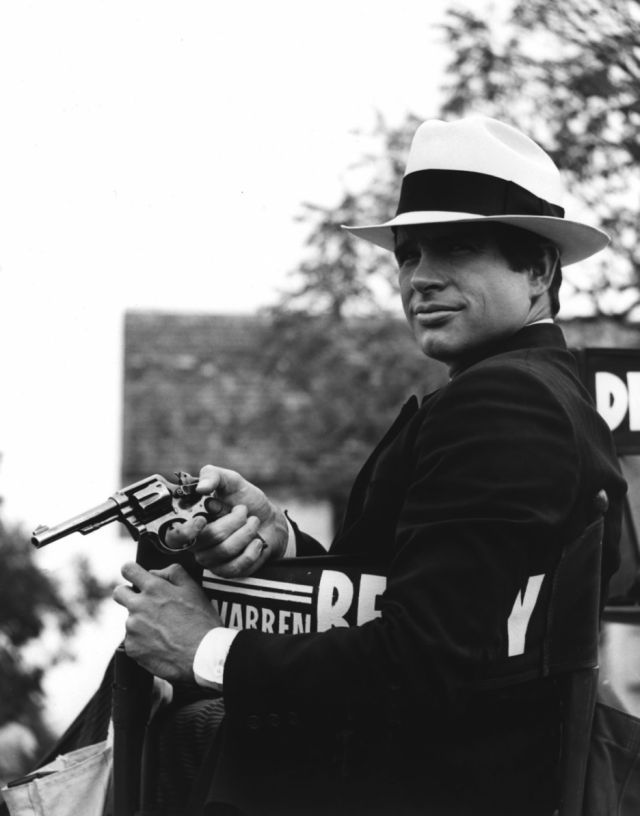Revolver: (17, 448, 233, 567)
